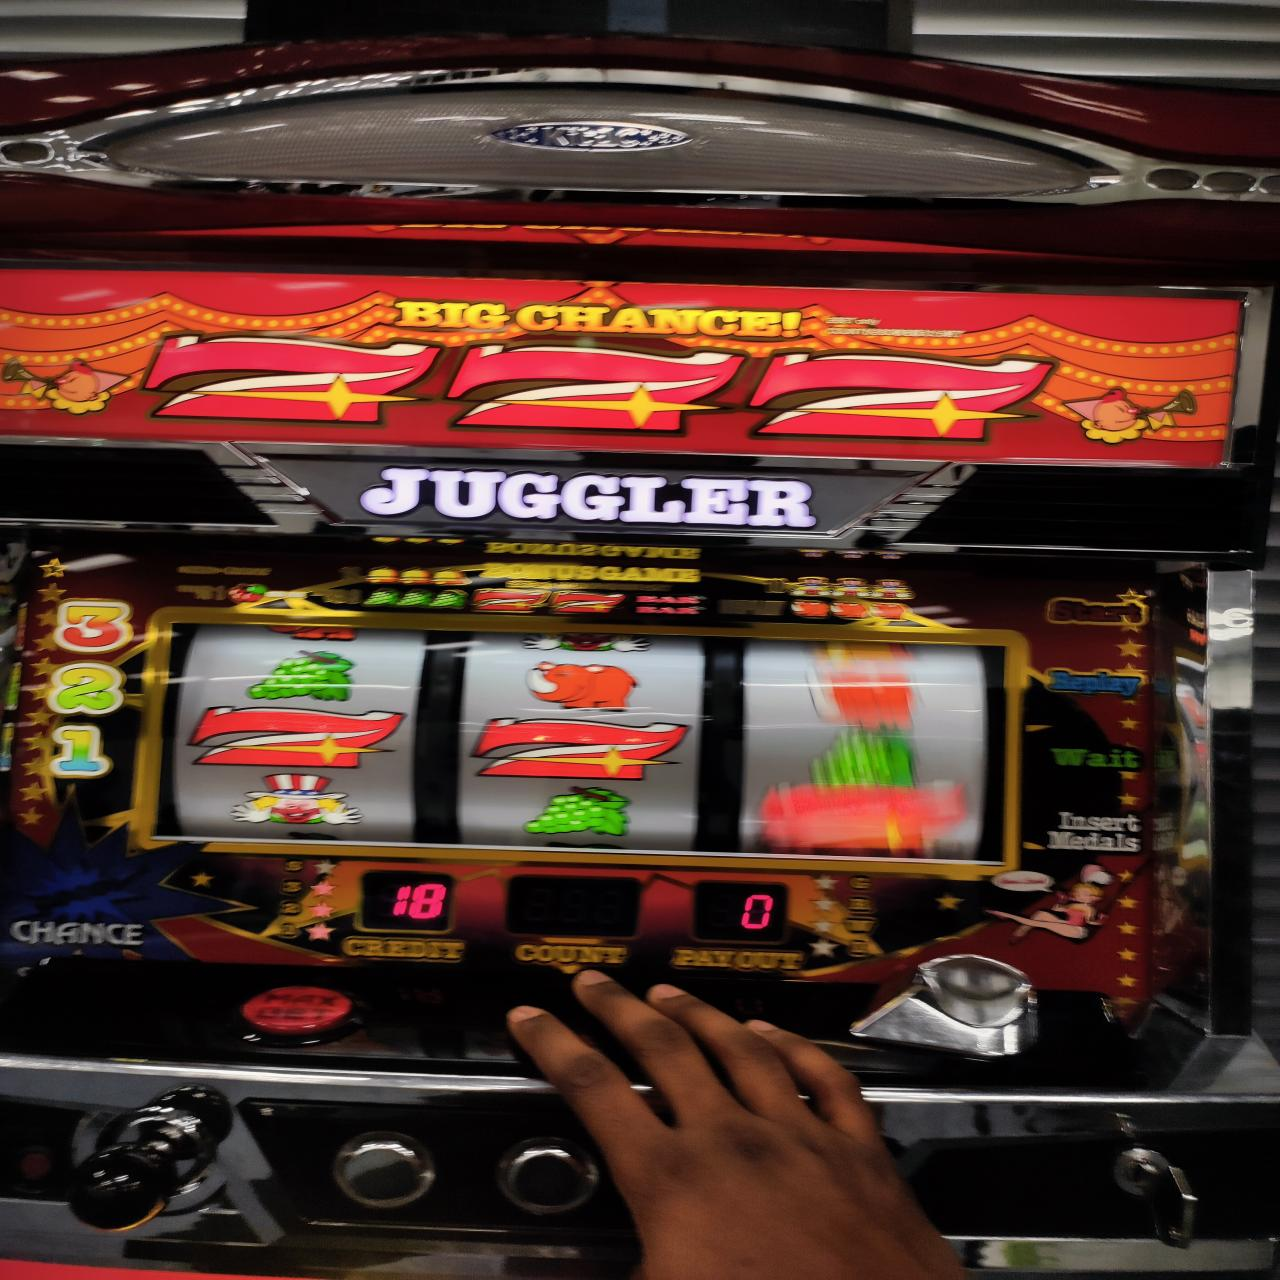7: (475, 710, 686, 782), (191, 707, 404, 769), (523, 660, 644, 712)
clown: (231, 771, 360, 825)
grape: (246, 647, 359, 701), (522, 783, 635, 836)
rhino: (162, 618, 1005, 871)
